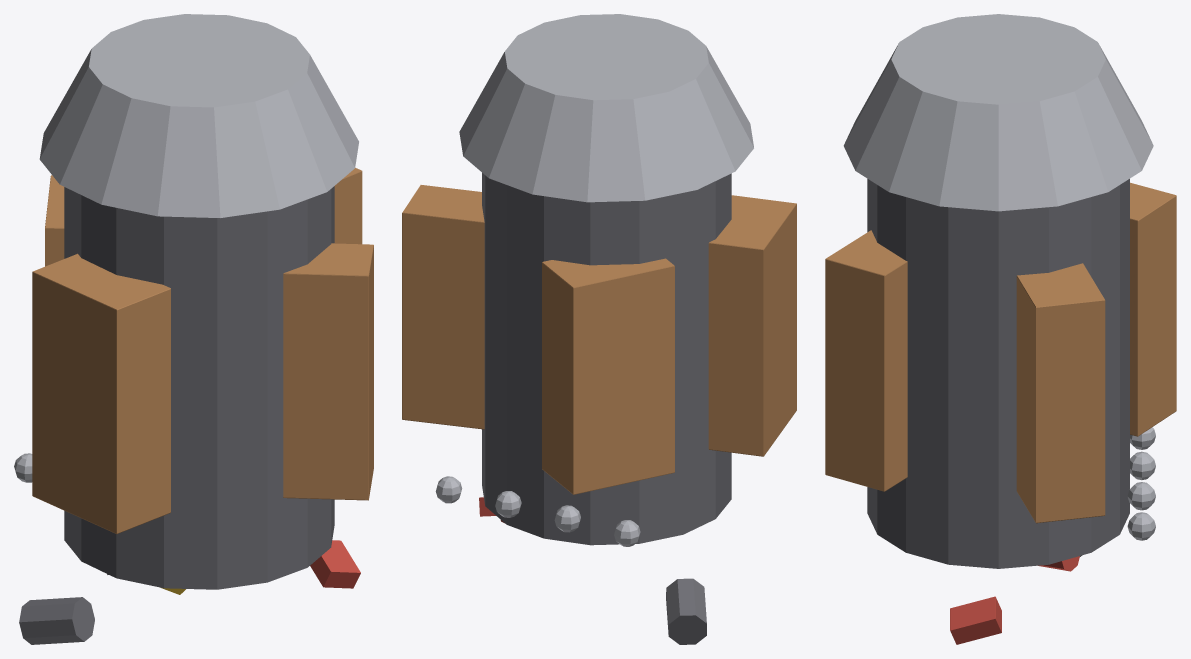
Rendered from backpack-bruiser3.glb.
The picture shows the model from 3 angles, left to right: view 1: azimuth 30°, elevation 25°; view 2: azimuth 150°, elevation 25°; view 3: azimuth 270°, elevation 25°; orthographic projection. The views are drawn at different scales.
Visible parts, largest first — view 1: stack, crown, shroud2, shroud3, grc0, shroud0, grb4, shroud1; view 2: stack, crown, shroud1, shroud2, shroud0, grc0, rivet, rivet.002, rivet.003, rivet.001; view 3: stack, crown, shroud0, shroud3, shroud1, grb4, rivet.003, rivet, rivet.002.
Part boxes in pixels (<box>): stack: <box>64,186,334,589</box>; crown: <box>39,14,358,217</box>; shroud2: <box>32,253,170,533</box>; shroud3: <box>283,243,373,500</box>; grc0: <box>19,597,94,644</box>; shroud0: <box>334,168,362,244</box>; grb4: <box>310,540,360,588</box>; shroud1: <box>45,175,64,266</box>; stack: <box>482,173,731,545</box>; crown: <box>459,14,753,202</box>; shroud1: <box>542,258,674,494</box>; shroud2: <box>708,195,796,456</box>; shroud0: <box>402,185,484,429</box>; grc0: <box>666,578,706,644</box>; rivet: <box>435,476,462,503</box>; rivet.002: <box>554,505,580,532</box>; rivet.003: <box>495,491,521,517</box>; rivet.001: <box>614,520,640,546</box>; stack: <box>867,179,1129,568</box>; crown: <box>843,14,1153,211</box>; shroud0: <box>1016,263,1105,523</box>; shroud3: <box>825,230,907,491</box>; shroud1: <box>1130,182,1176,436</box>; grb4: <box>950,596,1001,644</box>; rivet.003: <box>1127,482,1155,510</box>; rivet: <box>1127,512,1155,540</box>; rivet.002: <box>1130,451,1155,480</box>.
Size of the model in its own units: 0.327 by 0.5147 by 0.2943.
